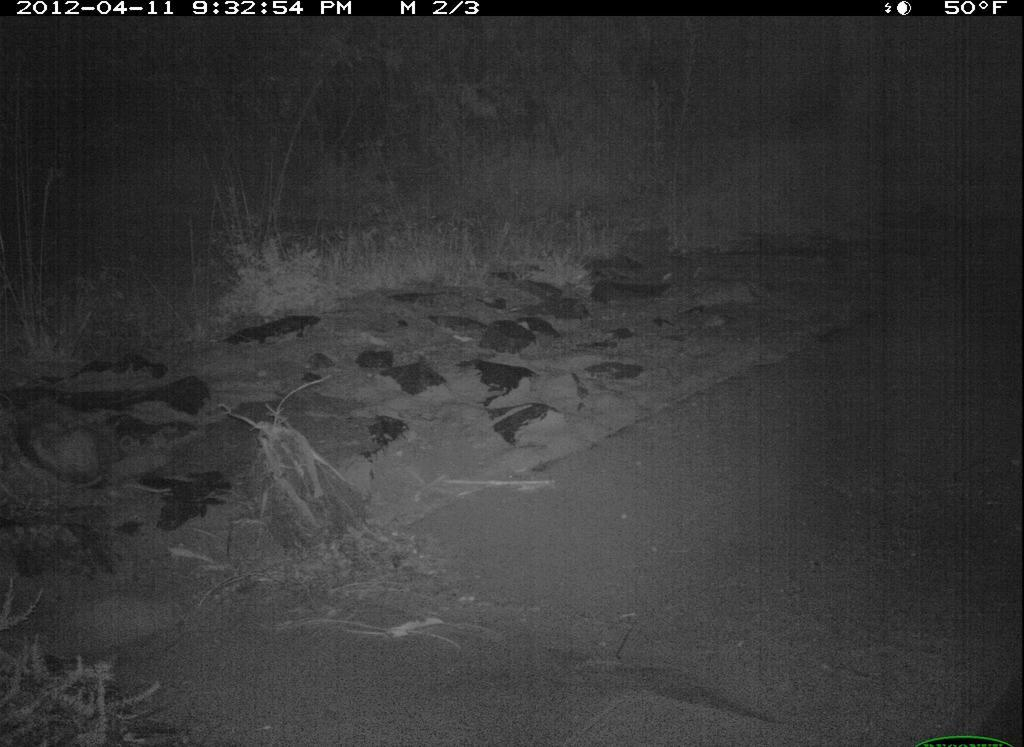opossum: (18, 386, 141, 513)
